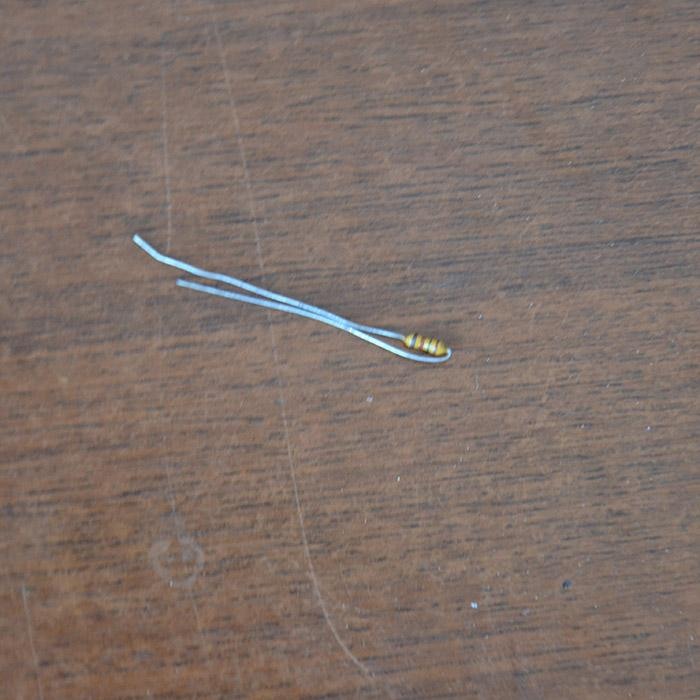resistor: (401, 331, 448, 356)
